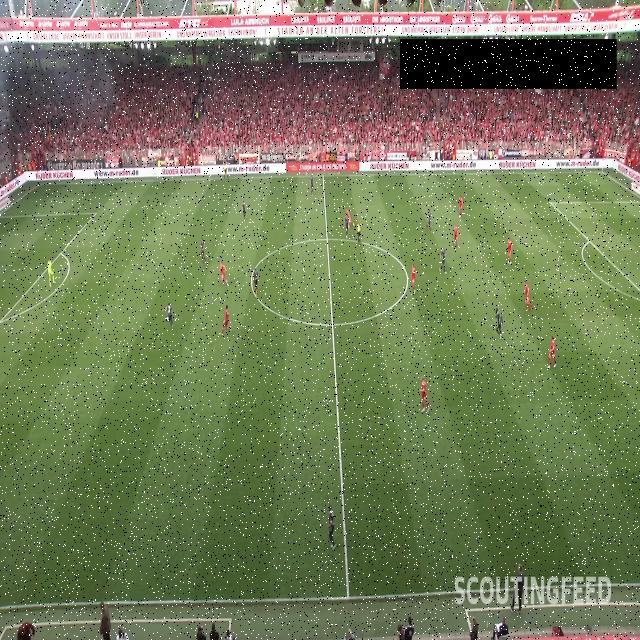Ball: (166, 316, 170, 322)
GoalKeeper: (47, 258, 57, 288)
Referee: (356, 220, 362, 246), (222, 162, 229, 182)
TEAM 1: (520, 280, 534, 312), (419, 376, 430, 414), (219, 305, 232, 337), (218, 259, 230, 288), (547, 336, 557, 370), (410, 263, 418, 296), (345, 208, 355, 228), (458, 193, 464, 220), (452, 224, 458, 248), (507, 238, 512, 265)
TEAM 2: (326, 504, 338, 551), (161, 303, 174, 328), (438, 245, 448, 275), (495, 306, 504, 339), (424, 210, 433, 232), (200, 236, 207, 264), (253, 266, 259, 296), (344, 214, 350, 239), (309, 174, 315, 198), (241, 200, 247, 222)
